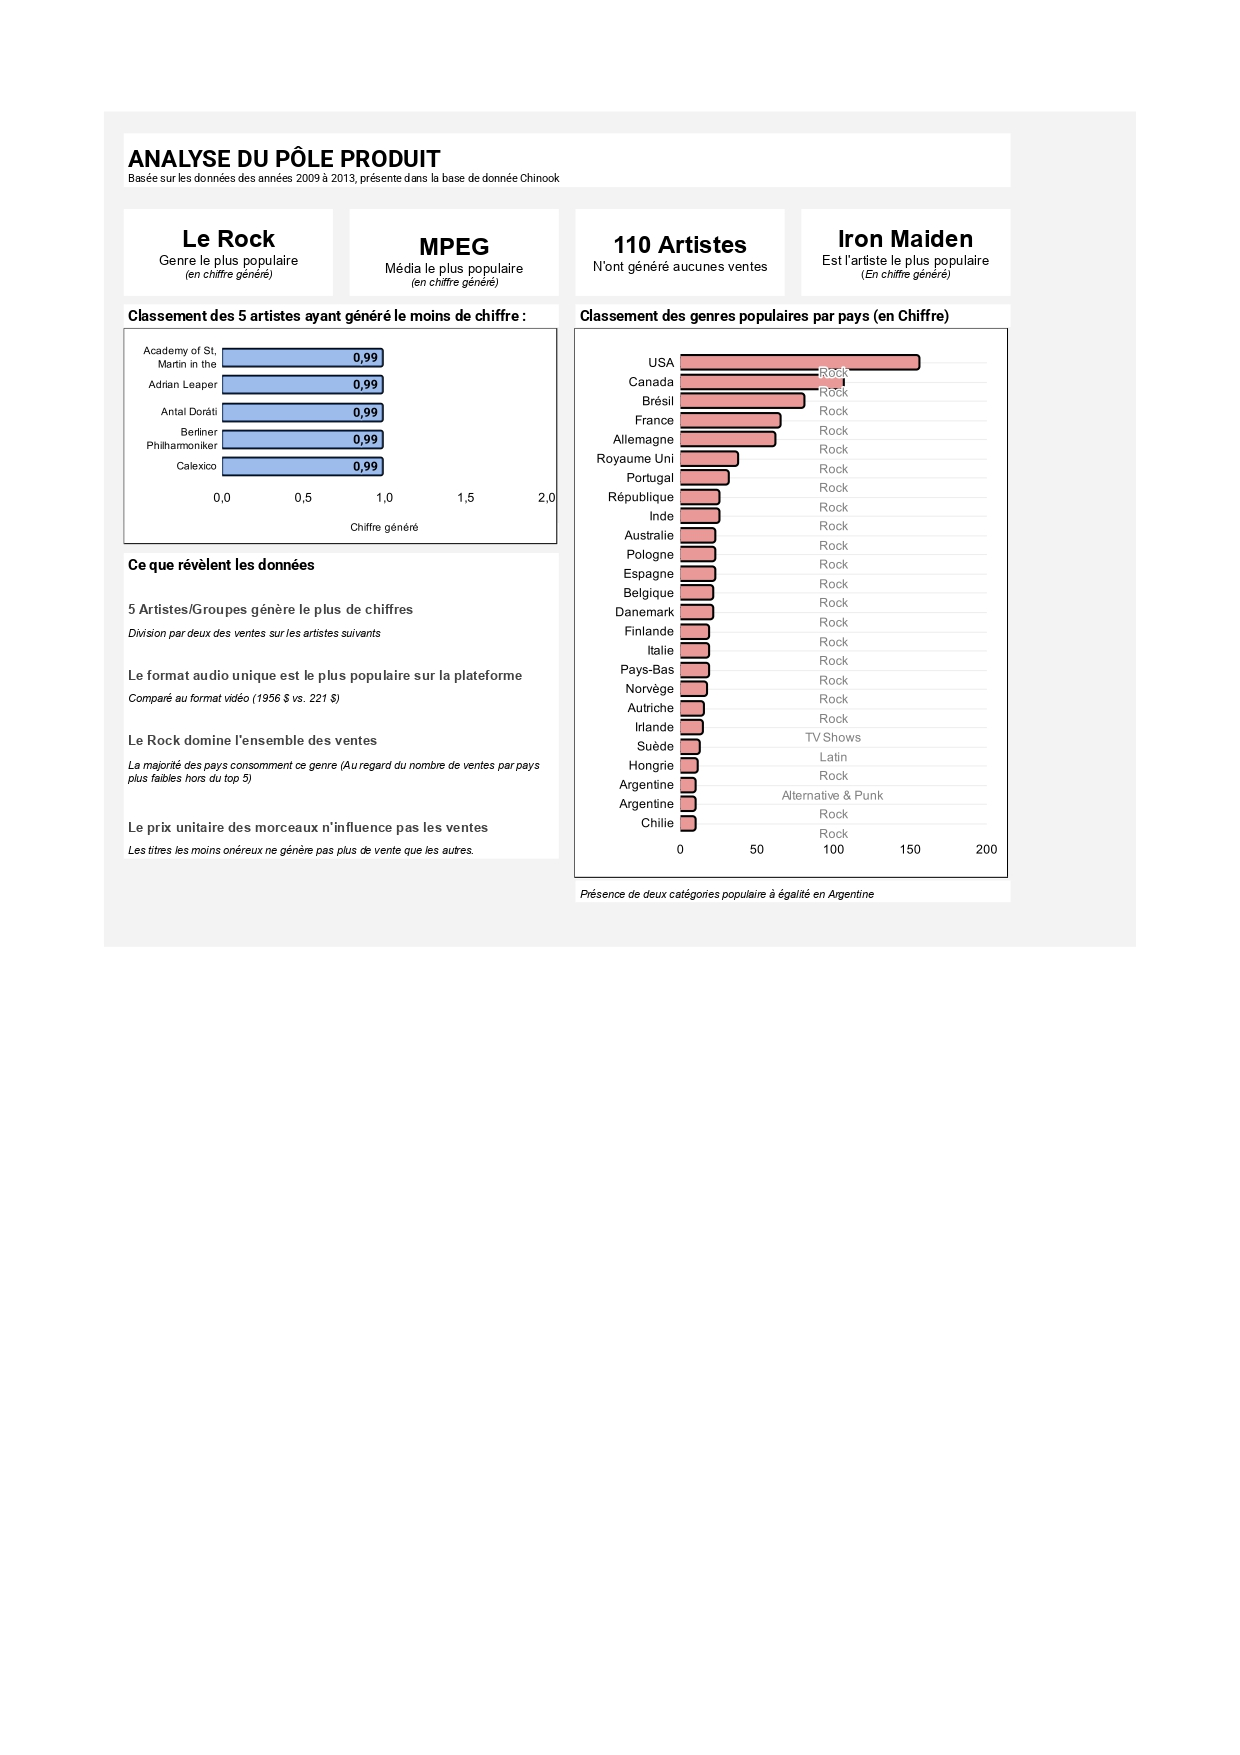

Layout of this report page (visuals, bound fields, positions):
{"tool":"powerbi","page":{"name":"PÔLE PRODUIT","canvas":[2560,1440],"ordinal":1},"visuals":[{"type":"shape","box":[16,16,2528,112],"z":0},{"type":"shape","box":[16,136,544,648],"z":1000},{"type":"shape","box":[576,144,400,160],"z":2000},{"type":"shape","box":[1072,144,416,160],"z":3000},{"type":"shape","box":[1536,144,416,160],"z":4000},{"type":"shape","box":[2048,144,448,160],"z":5000},{"type":"shape","box":[576,944,928,464],"z":6000},{"type":"textbox","box":[32,16,2512,112],"z":7000},{"type":"barChart","fields":{"Category":["artistes.Artist"],"Y":["artistes.selecteur_artistes"]},"box":[576,336,944,592],"z":8000},{"type":"clusteredBarChart","fields":{"Category":["pays.Country"],"Y":["pays.selecteur_calcul"]},"box":[1536,336,1008,1072],"z":9000},{"type":"slicer","fields":{"Values":["Type_artistes.Paramètre"]},"box":[24,240,528,64],"z":10000},{"type":"slicer","fields":{"Values":["choix_pays.choix_pays"]},"box":[24,400,528,64],"z":11000},{"type":"actionButton","box":[24,624,528,80],"z":13000},{"type":"textbox","box":[576,944,928,464],"z":14000},{"type":"textbox","box":[16,160,544,80],"z":15000},{"type":"textbox","box":[16,336,544,64],"z":16000},{"type":"textbox","box":[16,560,544,64],"z":17000},{"type":"textbox","box":[576,144,400,160],"z":18000},{"type":"textbox","box":[1072,144,416,160],"z":19000},{"type":"textbox","box":[1536,144,416,160],"z":20000},{"type":"textbox","box":[2048,144,448,160],"z":21000}]}

Visuals, with their boxes on the page's 2560x1440 design canvas (x1, y1, x2, y2). These are canvas units, not pixel positions in the 1240x1755 screenshot, which may show the page scaled, cropped or inside an application window:
shape: [x1=16, y1=16, x2=2544, y2=128]
shape: [x1=16, y1=136, x2=560, y2=784]
shape: [x1=576, y1=144, x2=976, y2=304]
shape: [x1=1072, y1=144, x2=1488, y2=304]
shape: [x1=1536, y1=144, x2=1952, y2=304]
shape: [x1=2048, y1=144, x2=2496, y2=304]
shape: [x1=576, y1=944, x2=1504, y2=1408]
textbox: [x1=32, y1=16, x2=2544, y2=128]
barChart - artistes.Artist x artistes.selecteur_artistes: [x1=576, y1=336, x2=1520, y2=928]
clusteredBarChart - pays.Country x pays.selecteur_calcul: [x1=1536, y1=336, x2=2544, y2=1408]
slicer - Type_artistes.Paramètre: [x1=24, y1=240, x2=552, y2=304]
slicer - choix_pays.choix_pays: [x1=24, y1=400, x2=552, y2=464]
actionButton: [x1=24, y1=624, x2=552, y2=704]
textbox: [x1=576, y1=944, x2=1504, y2=1408]
textbox: [x1=16, y1=160, x2=560, y2=240]
textbox: [x1=16, y1=336, x2=560, y2=400]
textbox: [x1=16, y1=560, x2=560, y2=624]
textbox: [x1=576, y1=144, x2=976, y2=304]
textbox: [x1=1072, y1=144, x2=1488, y2=304]
textbox: [x1=1536, y1=144, x2=1952, y2=304]
textbox: [x1=2048, y1=144, x2=2496, y2=304]
